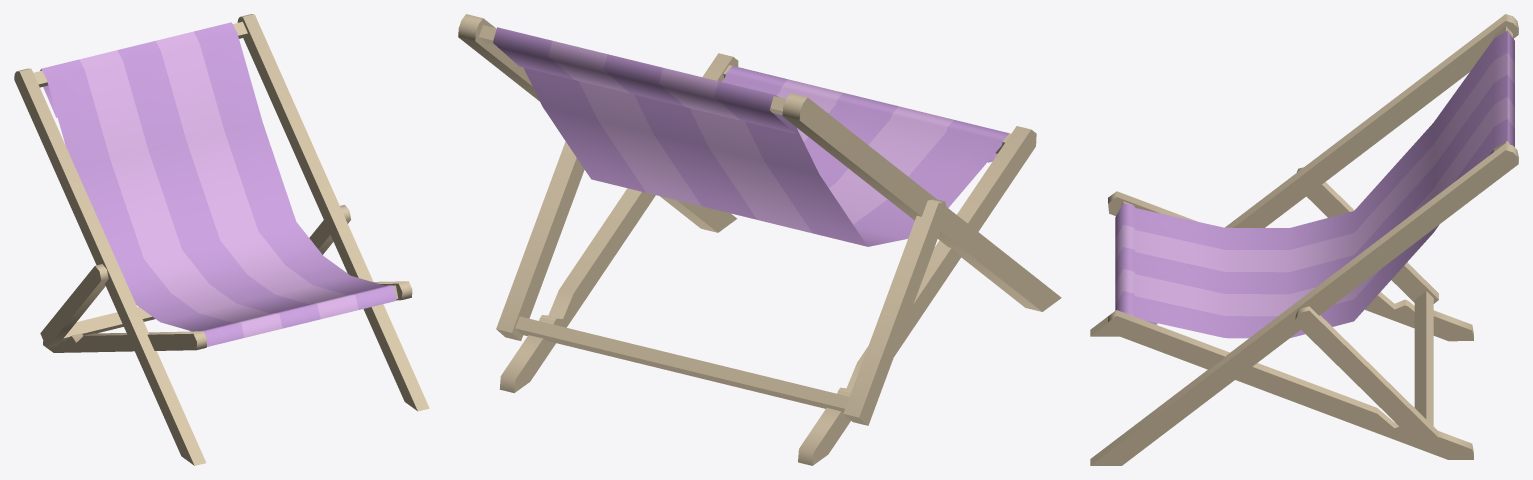
Rendered from BeachChair_Purple.fbx.
3 renders of one model, left to right at view 1: azimuth 30°, elevation 25°; view 2: azimuth 150°, elevation 25°; view 3: azimuth 270°, elevation 25°, orthographic. The views are drawn at different scales.
Visible parts, largest first — view 1: BeachChair_Purple; view 2: BeachChair_Purple; view 3: BeachChair_Purple.
Part boxes in pixels (<box>): BeachChair_Purple: <box>14,14,429,465</box>; BeachChair_Purple: <box>458,14,1061,465</box>; BeachChair_Purple: <box>1090,14,1518,465</box>.
Bounding box in the file's own units: 117 × 119 × 146.
